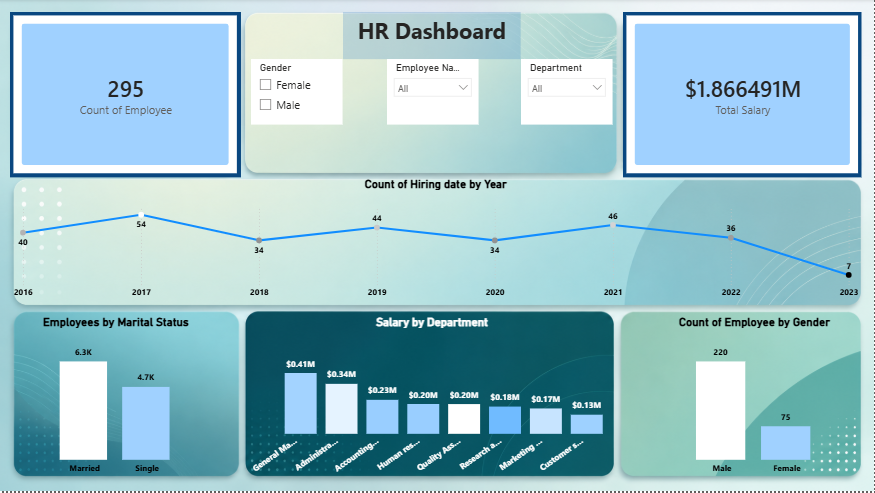

What the dashboard file says about the page in this screenshot:
{"tool":"powerbi","page":{"name":"Page 1","canvas":[1280,720],"ordinal":0},"visuals":[{"type":"image","box":[0,0,1280,720.6],"z":0},{"type":"lineChart","fields":{"Category":["StaffTable.Hiring date.Variation.Date Hierarchy.Year"],"Y":["CountNonNull(StaffTable.Hiring date)"]},"box":[15.1,260.4,1246.4,186.5],"z":1},{"type":"cardVisual","fields":{"Data":["Sum(StaffTable.Salary)"]},"box":[912.1,18.5,349.4,241.9],"z":2},{"type":"cardVisual","fields":{"Data":["CountNonNull(StaffTable.Employee Name)"]},"box":[15.1,18.5,337.6,241.9],"z":3},{"type":"columnChart","title":"Salary by Department","fields":{"Category":["StaffTable.Department"],"Y":["Sum(StaffTable.Salary)"]},"box":[352.8,461.9,559.4,241.9],"z":4},{"type":"columnChart","title":"Employees by Marital Status","fields":{"Category":["StaffTable.Marital Status"],"Y":["Sum(StaffTable.Age)"]},"box":[0,461.9,339.3,241.9],"z":5},{"type":"columnChart","title":"Count of Employee by Gender","fields":{"Category":["StaffTable.Gender"],"Y":["CountNonNull(StaffTable.Employee Name)"]},"box":[927.2,461.9,352.8,241.9],"z":6},{"type":"textbox","box":[502.3,18.5,260.4,68.9],"z":7},{"type":"slicer","fields":{"Values":["StaffTable.Gender"]},"box":[367.9,87.3,134.4,95.7],"z":8},{"type":"slicer","fields":{"Values":["StaffTable.Department"]},"box":[762.6,87.3,134.4,95.7],"z":9},{"type":"slicer","fields":{"Values":["StaffTable.Employee Name"]},"box":[566.1,87.3,134.4,95.7],"z":10}]}

Visuals, with their boxes in screenshot pixels (x1, y1, x2, y2), scaled from the page's 1280x720 canvas onto the 875x493 screenshot:
image: locate(0, 0, 874, 492)
lineChart - StaffTable.Hiring date.Variation.Date Hierarchy.Year x CountNonNull(StaffTable.Hiring date): locate(10, 178, 862, 306)
cardVisual - Sum(StaffTable.Salary): locate(624, 13, 862, 178)
cardVisual - CountNonNull(StaffTable.Employee Name): locate(10, 13, 241, 178)
"Salary by Department" columnChart: locate(241, 316, 624, 482)
"Employees by Marital Status" columnChart: locate(0, 316, 232, 482)
"Count of Employee by Gender" columnChart: locate(634, 316, 874, 482)
textbox: locate(343, 13, 521, 60)
slicer - StaffTable.Gender: locate(251, 60, 343, 125)
slicer - StaffTable.Department: locate(521, 60, 613, 125)
slicer - StaffTable.Employee Name: locate(387, 60, 479, 125)
